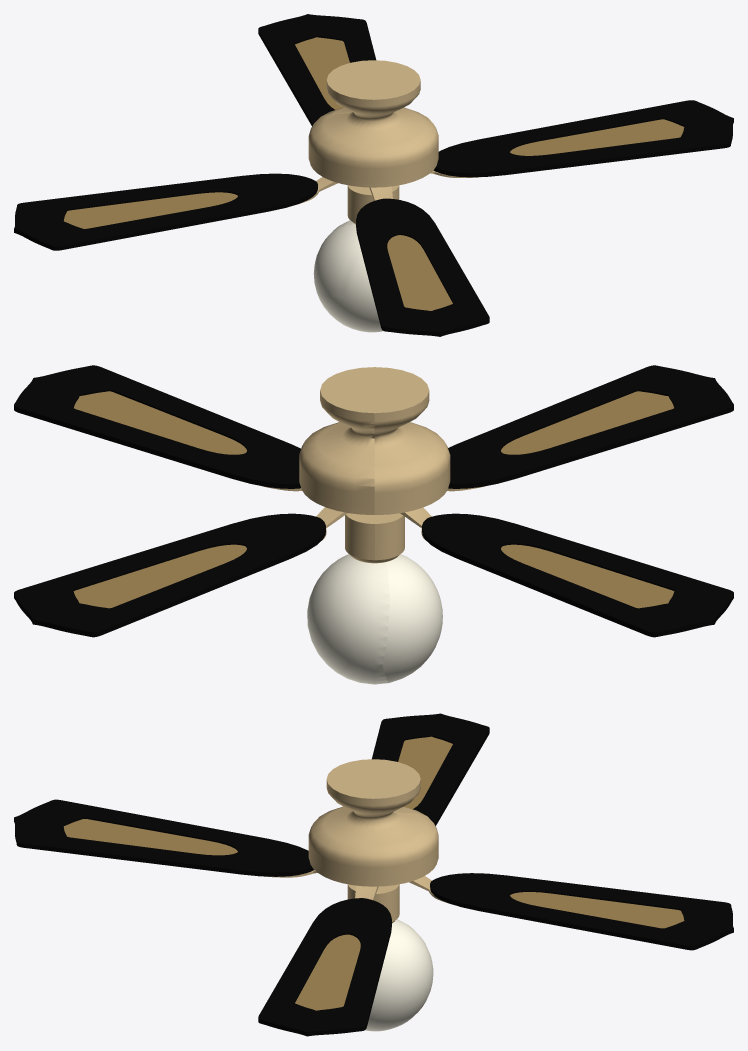
Rendered from fan.glb.
3 views of the same model, one above another, from view 1: azimuth 30°, elevation 25°; view 2: azimuth 150°, elevation 25°; view 3: azimuth 270°, elevation 25° (orthographic). The views are drawn at different scales.
Visible parts, largest first — view 1: CeilingFan5028_2_2, CeilingFan_1_1, CeilingFan6820_3_3, CeilingFan6900_4_4; view 2: CeilingFan5028_2_2, CeilingFan_1_1, CeilingFan6820_3_3, CeilingFan6900_4_4; view 3: CeilingFan5028_2_2, CeilingFan_1_1, CeilingFan6820_3_3, CeilingFan6900_4_4.
Boxes of the visible parts, <box> form: CeilingFan5028_2_2: <box>14,14,733,336</box>; CeilingFan_1_1: <box>296,60,481,224</box>; CeilingFan6820_3_3: <box>64,37,684,310</box>; CeilingFan6900_4_4: <box>313,220,383,332</box>; CeilingFan5028_2_2: <box>14,365,733,637</box>; CeilingFan_1_1: <box>263,367,484,563</box>; CeilingFan6820_3_3: <box>73,391,674,608</box>; CeilingFan6900_4_4: <box>307,554,442,684</box>; CeilingFan5028_2_2: <box>14,713,733,1036</box>; CeilingFan_1_1: <box>268,759,449,923</box>; CeilingFan6820_3_3: <box>63,736,684,1010</box>; CeilingFan6900_4_4: <box>365,919,433,1031</box>.
Size of the model in its own units: 1.08 by 0.3899 by 1.03.
